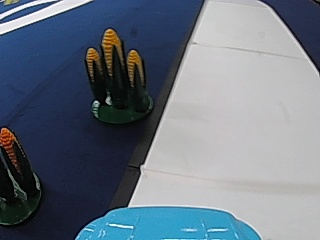corn: (83, 24, 154, 125), (1, 126, 41, 227)
